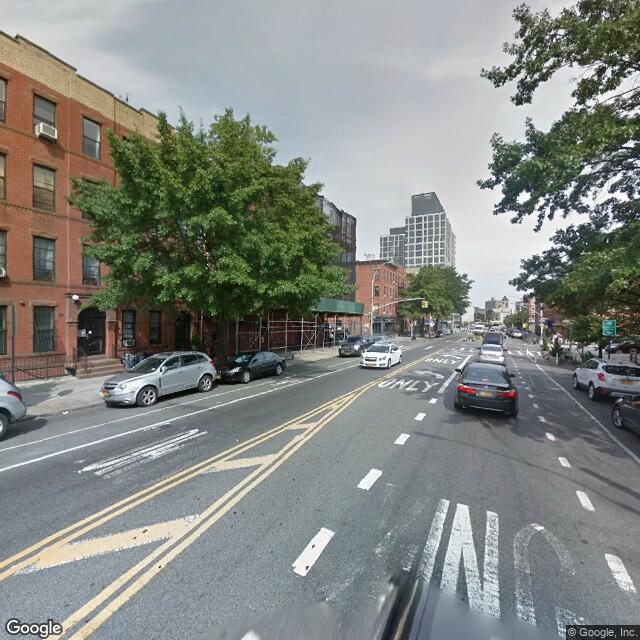litter: (53, 399, 89, 418)
